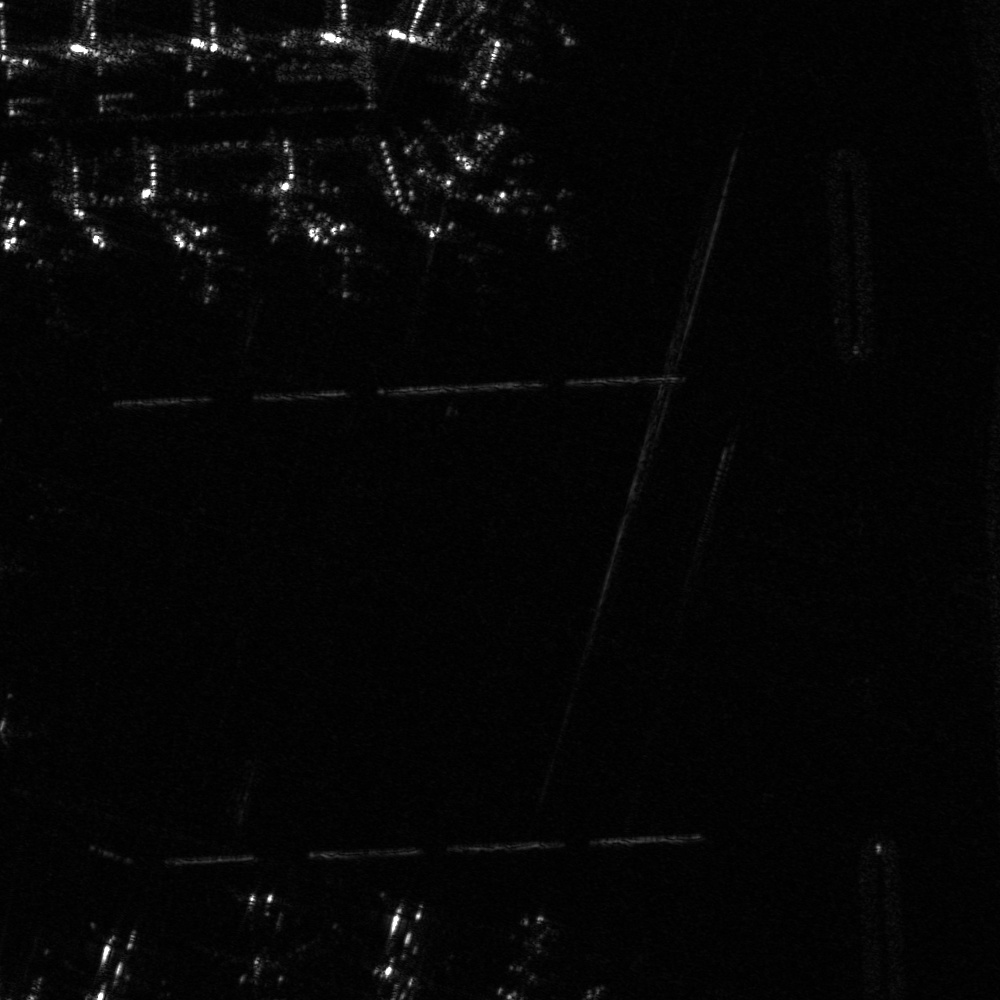A320/321: (314, 222, 384, 302)
Boeing787: (173, 227, 246, 312)
